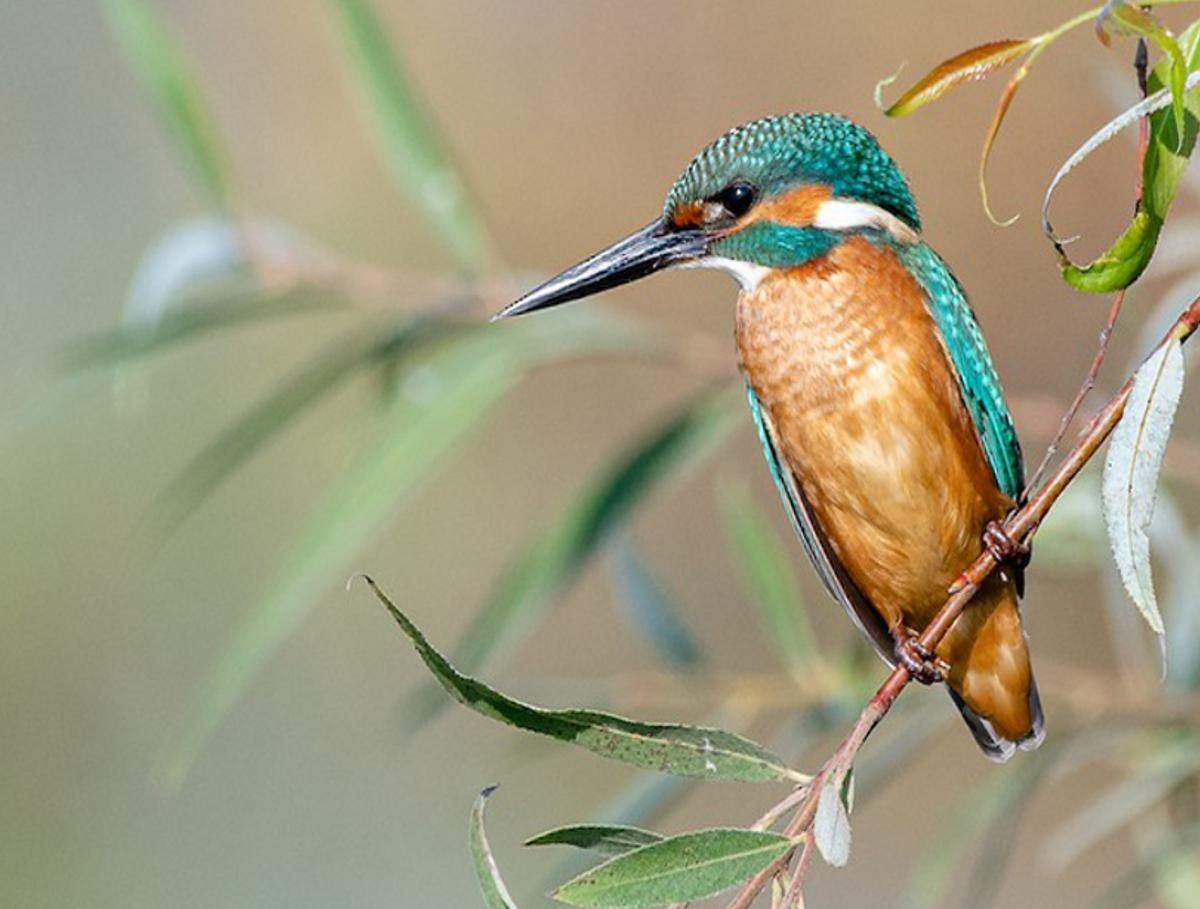kingfisher: (495, 79, 1096, 798)
